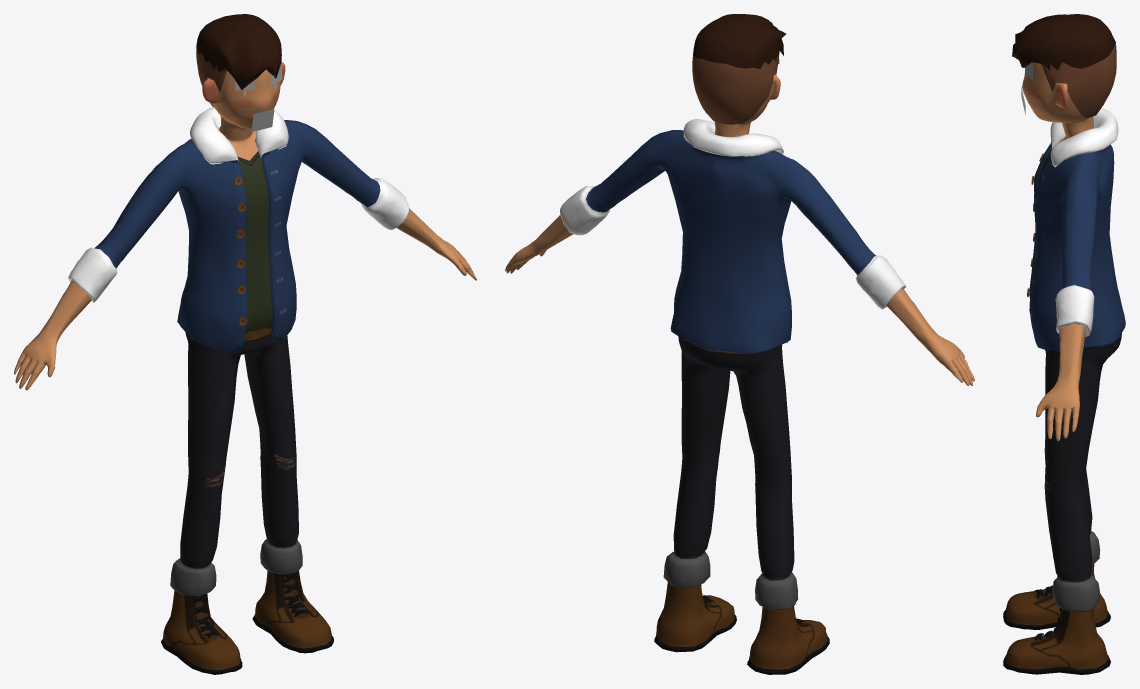
File: jace1.fbx
3 views of the same model, side by side, from view 1: azimuth 30°, elevation 25°; view 2: azimuth 150°, elevation 25°; view 3: azimuth 270°, elevation 25° (orthographic).
Parts seen in each view (by area): view 1: polySurface27; view 2: polySurface27; view 3: polySurface27.
Part boxes in pixels (bbox=[...]): polySurface27: bbox=[14, 14, 476, 674]; polySurface27: bbox=[505, 14, 974, 674]; polySurface27: bbox=[1003, 14, 1125, 674].
Size of the model in its own units: 131 by 169 by 30.24.
